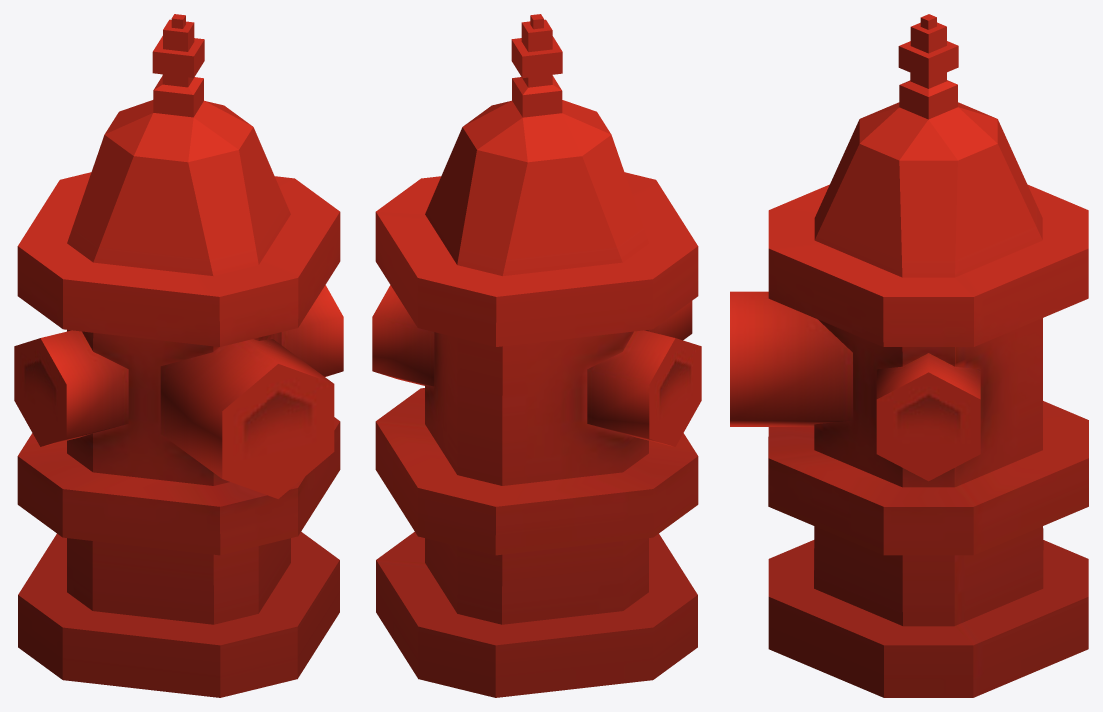
Rendered from fire_hydrant.fbx.
3 renders of one model, left to right at view 1: azimuth 30°, elevation 25°; view 2: azimuth 150°, elevation 25°; view 3: azimuth 270°, elevation 25°, orthographic.
Visible parts, largest first — view 1: Hydrant; view 2: Hydrant; view 3: Hydrant.
Boxes of the visible parts, bbox=[...] form: Hydrant: bbox=[14, 14, 343, 697]; Hydrant: bbox=[372, 14, 701, 697]; Hydrant: bbox=[730, 14, 1088, 697].
Size of the model in its own units: 16679 by 35196 by 18676.
Materials: 1 (1 with a texture image).
